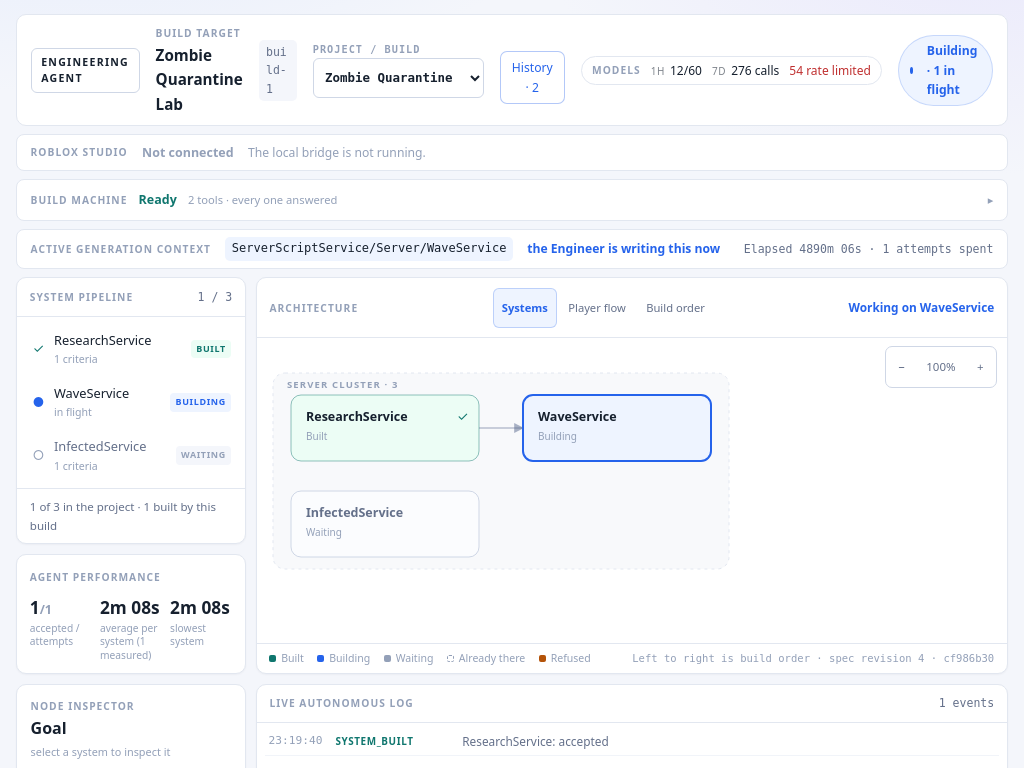
the planning views › reports how far a player could actually get
Check: the element with test id "architecture-map" is shown, box 257,338 -> 1007,673
Click the tab "Player flow". click: (597, 308)
box: 559,288 -> 635,328
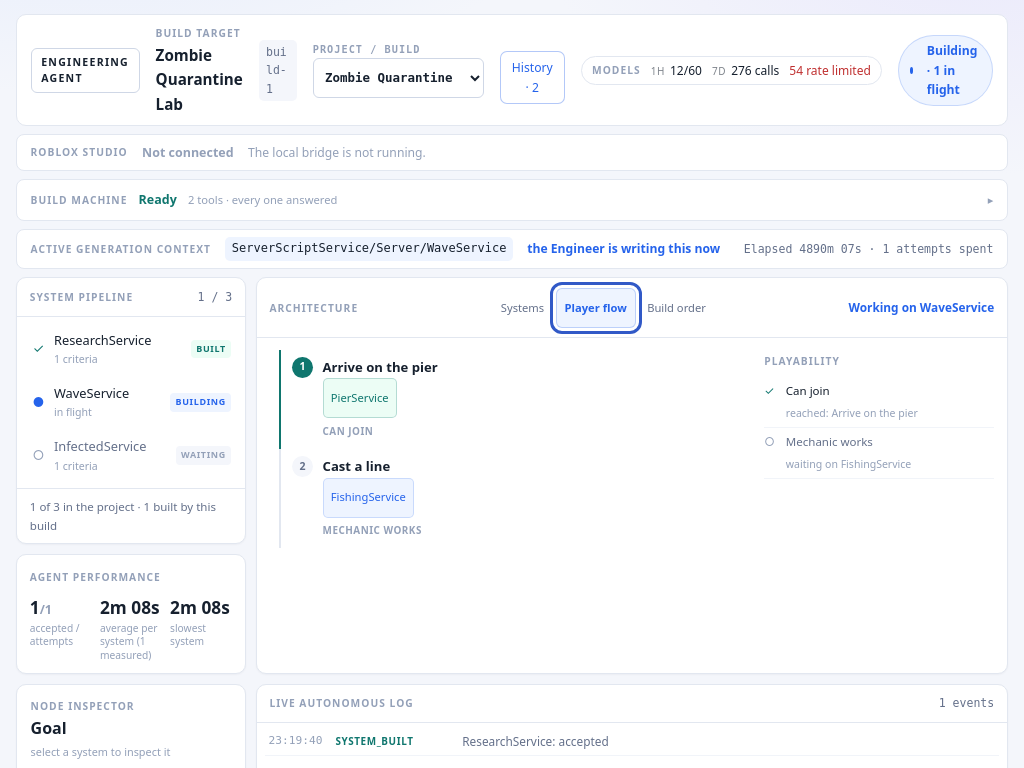
Check: the text "waiting on FishingService" is shown, box 786,457 -> 911,471
